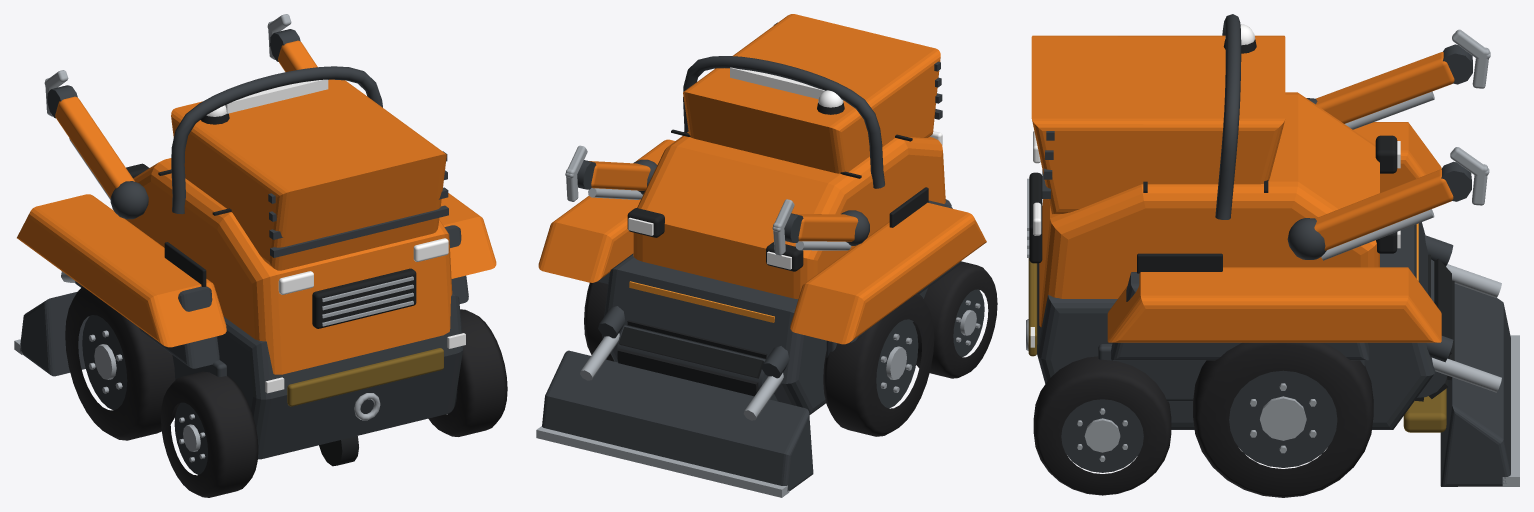
The model's file is Machine_collector_T3.glb.
3 renders of one model, left to right at view 1: azimuth 30°, elevation 25°; view 2: azimuth 150°, elevation 25°; view 3: azimuth 270°, elevation 25°, orthographic. The views are drawn at different scales.
Visible parts, largest first — view 1: Tier2_Parts_MAT_Player_Shell_18, Body_Shell_0, Tier1_Parts_MAT_Player_Gunmetal_9, Axle_Rear_MAT_tread_14, Axle_Front_MAT_tread_6, Tier2_Parts_MAT_Player_Gunmetal_19, Tier3_Parts_MAT_Player_Gunmetal_33, Tier1_Parts_MAT_darkTrim_10, Tier1_Parts_MAT_Player_Hazard_12, Arm_L_Boom_23, Axle_Front_MAT_Player_Gunmetal_7, Tier1_Parts_MAT_steel_11 (+7 smaller); view 2: Tier2_Parts_MAT_Player_Shell_18, Body_Shell_0, Tier2_Parts_MAT_Player_Gunmetal_19, Tier1_Parts_MAT_Player_Gunmetal_9, Axle_Front_MAT_tread_6, Intake_Roller_MAT_darkTrim_2, Axle_Rear_MAT_tread_14, Tier2_Parts_MAT_steel_21, Tier3_Parts_MAT_Player_Gunmetal_33, Axle_Front_MAT_Player_Gunmetal_7, Tier1_Parts_MAT_darkTrim_10, Arm_L_Boom_23 (+13 smaller); view 3: Tier2_Parts_MAT_Player_Shell_18, Body_Shell_0, Axle_Front_MAT_tread_6, Tier1_Parts_MAT_Player_Gunmetal_9, Tier2_Parts_MAT_Player_Gunmetal_19, Axle_Rear_MAT_tread_14, Axle_Front_MAT_Player_Gunmetal_7, Tier3_Parts_MAT_Player_Gunmetal_33, Arm_R_Boom_28, Arm_L_Boom_23, Tier1_Parts_MAT_darkTrim_10, Axle_Rear_MAT_Player_Gunmetal_15 (+14 smaller).
Boxes of the visible parts, bbox=[...] form: Tier2_Parts_MAT_Player_Shell_18: bbox=[17, 79, 496, 347]; Body_Shell_0: bbox=[125, 158, 452, 374]; Tier1_Parts_MAT_Player_Gunmetal_9: bbox=[75, 225, 468, 459]; Axle_Rear_MAT_tread_14: bbox=[161, 309, 507, 497]; Axle_Front_MAT_tread_6: bbox=[65, 286, 179, 440]; Tier2_Parts_MAT_Player_Gunmetal_19: bbox=[20, 151, 448, 376]; Tier3_Parts_MAT_Player_Gunmetal_33: bbox=[171, 66, 382, 379]; Tier1_Parts_MAT_darkTrim_10: bbox=[126, 163, 416, 466]; Tier1_Parts_MAT_Player_Hazard_12: bbox=[287, 348, 443, 406]; Arm_L_Boom_23: bbox=[55, 96, 134, 198]; Axle_Front_MAT_Player_Gunmetal_7: bbox=[82, 315, 127, 410]; Tier1_Parts_MAT_steel_11: bbox=[322, 276, 413, 420]; Tier2_Parts_MAT_Player_Shell_18: bbox=[538, 14, 986, 344]; Body_Shell_0: bbox=[633, 132, 945, 299]; Tier2_Parts_MAT_Player_Gunmetal_19: bbox=[542, 22, 942, 491]; Tier1_Parts_MAT_Player_Gunmetal_9: bbox=[597, 199, 961, 415]; Axle_Front_MAT_tread_6: bbox=[584, 281, 934, 436]; Intake_Roller_MAT_darkTrim_2: bbox=[617, 320, 767, 396]; Axle_Rear_MAT_tread_14: bbox=[913, 261, 997, 378]; Tier2_Parts_MAT_steel_21: bbox=[536, 333, 789, 497]; Tier3_Parts_MAT_Player_Gunmetal_33: bbox=[683, 56, 928, 357]; Axle_Front_MAT_Player_Gunmetal_7: bbox=[876, 319, 918, 408]; Tier1_Parts_MAT_darkTrim_10: bbox=[627, 129, 928, 271]; Arm_L_Boom_23: bbox=[795, 214, 858, 241]; Tier2_Parts_MAT_Player_Shell_18: bbox=[1031, 35, 1441, 342]; Body_Shell_0: bbox=[1039, 92, 1379, 327]; Axle_Front_MAT_tread_6: bbox=[1193, 342, 1373, 497]; Tier1_Parts_MAT_Player_Gunmetal_9: bbox=[1037, 222, 1435, 429]; Tier2_Parts_MAT_Player_Gunmetal_19: bbox=[1042, 131, 1510, 486]; Axle_Rear_MAT_tread_14: bbox=[1033, 356, 1171, 495]; Axle_Front_MAT_Player_Gunmetal_7: bbox=[1229, 370, 1337, 467]; Tier3_Parts_MAT_Player_Gunmetal_33: bbox=[1098, 14, 1364, 401]; Arm_R_Boom_28: bbox=[1314, 169, 1453, 250]; Arm_L_Boom_23: bbox=[1316, 52, 1454, 123]; Tier1_Parts_MAT_darkTrim_10: bbox=[1029, 135, 1397, 273]; Axle_Rear_MAT_Player_Gunmetal_15: bbox=[1061, 399, 1143, 472].
Bounding box in the file's own units: 1 × 0.9699 × 1.15.
